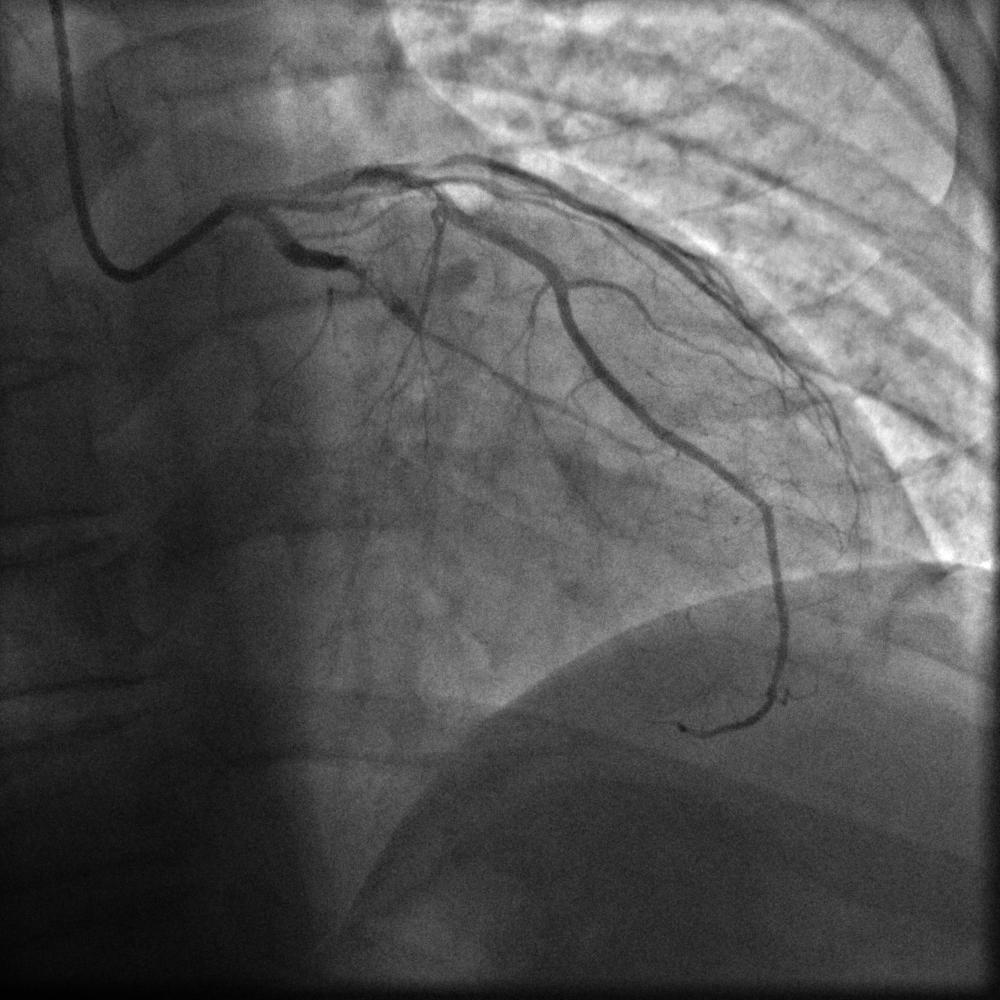Stenosis: (341, 255, 398, 311)
